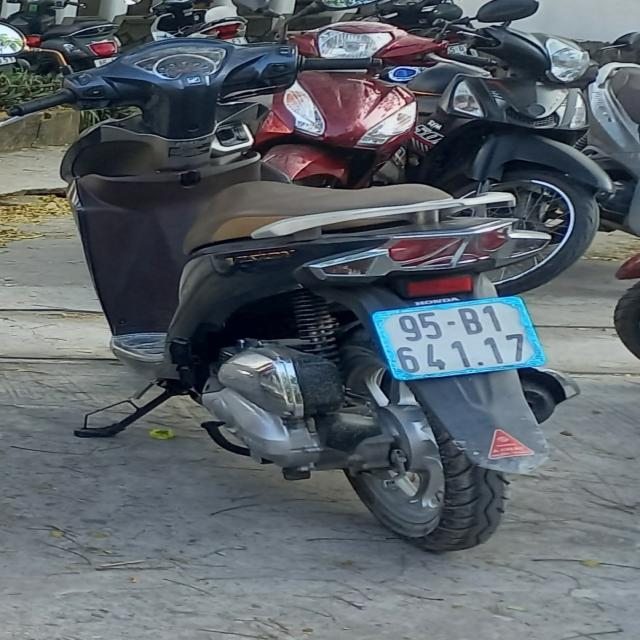1: (450, 338, 476, 368), (483, 304, 505, 331), (483, 337, 505, 364)
4: (427, 343, 445, 370)
5: (417, 311, 443, 339)
6: (397, 347, 420, 372)
7: (506, 333, 526, 362)
9: (398, 316, 421, 342)
B: (458, 307, 484, 335)
